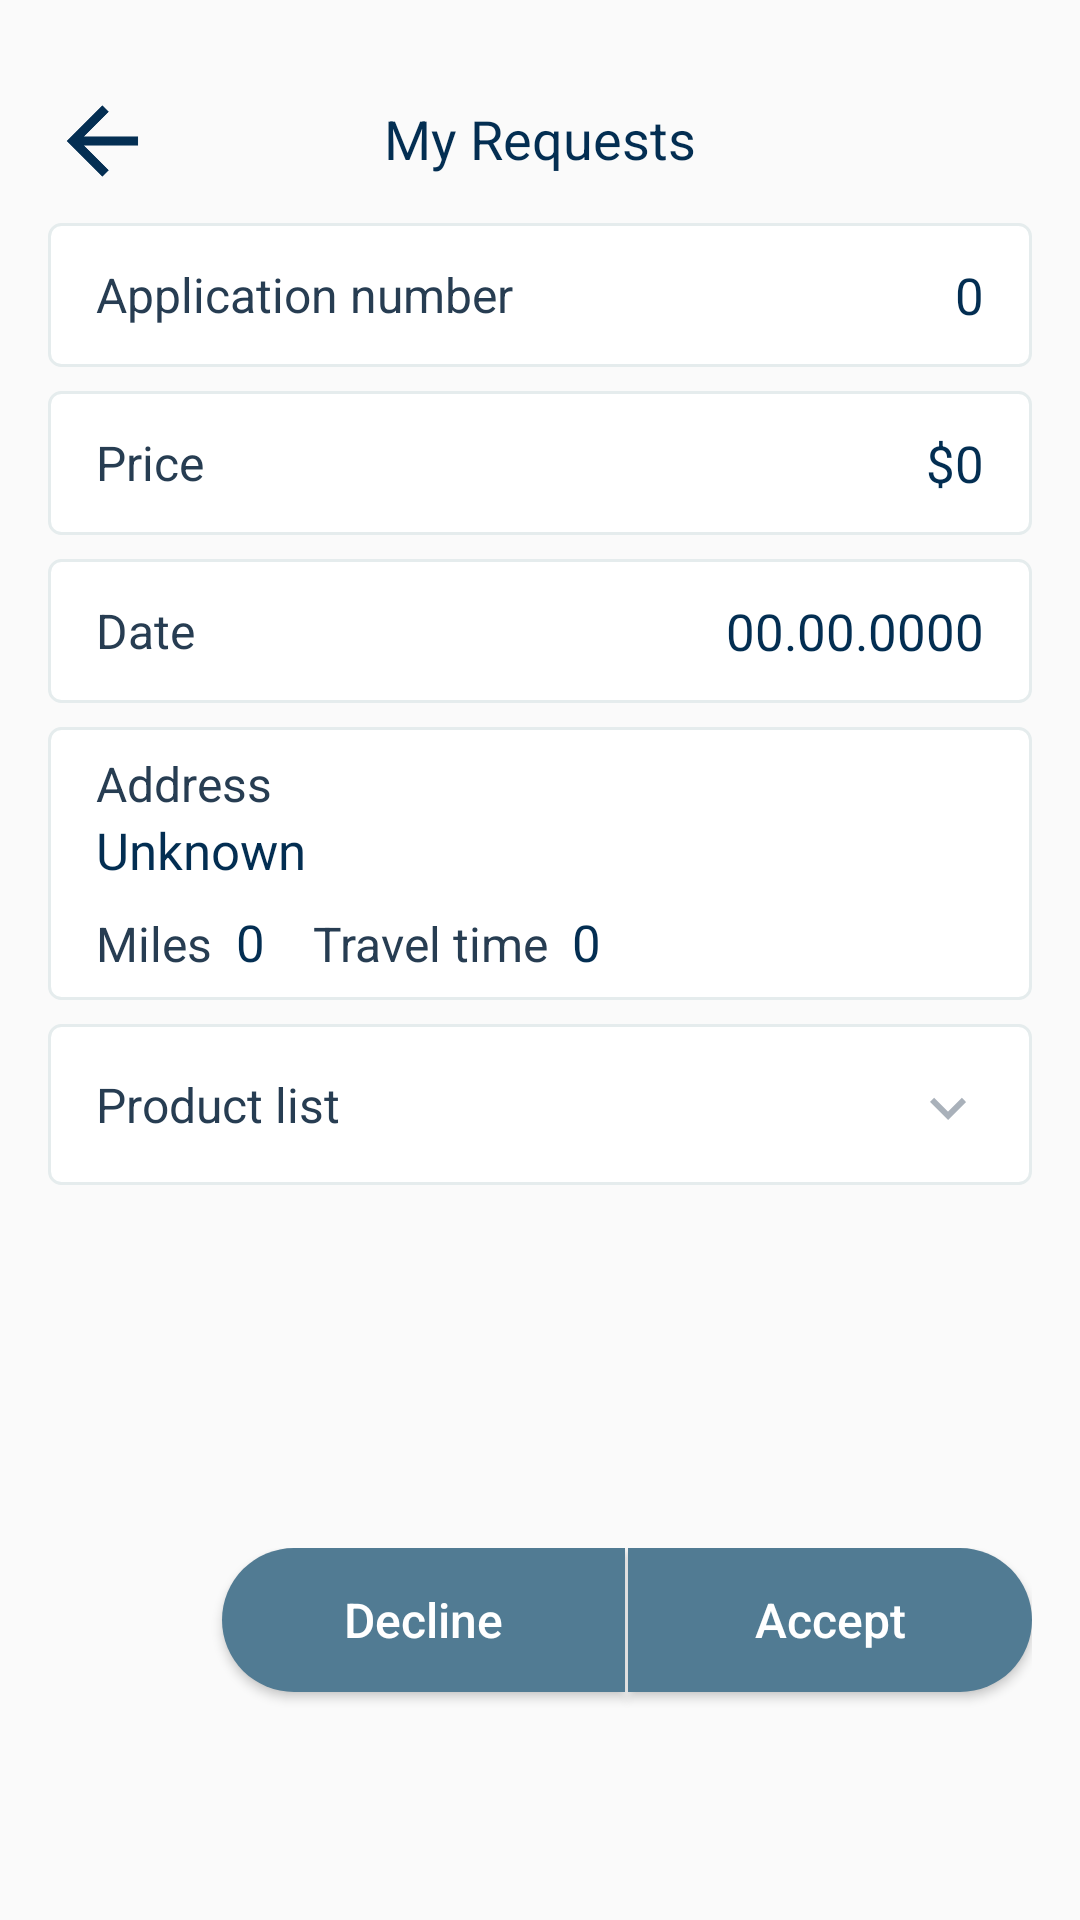

Screen size 1080x1920. Icon name, then its center in pixels as point (x, y):
back: point (102, 141)
chevron down: point (948, 1109)
